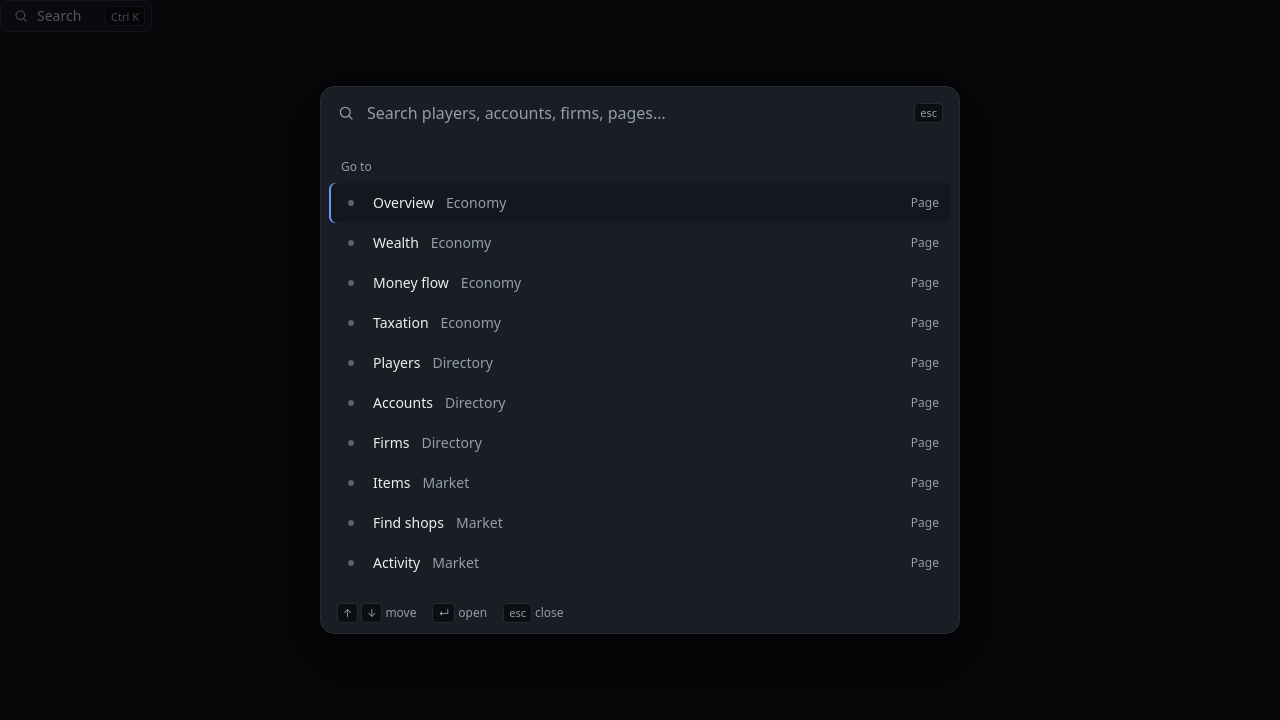
Test case: pages and actions › filters pages by the query and opens the chosen one with Enter
The width and height of the screenshot is (1280, 720).
Step 1. Type "statem" into the dropdown → (635, 113), box [367,87,902,138]
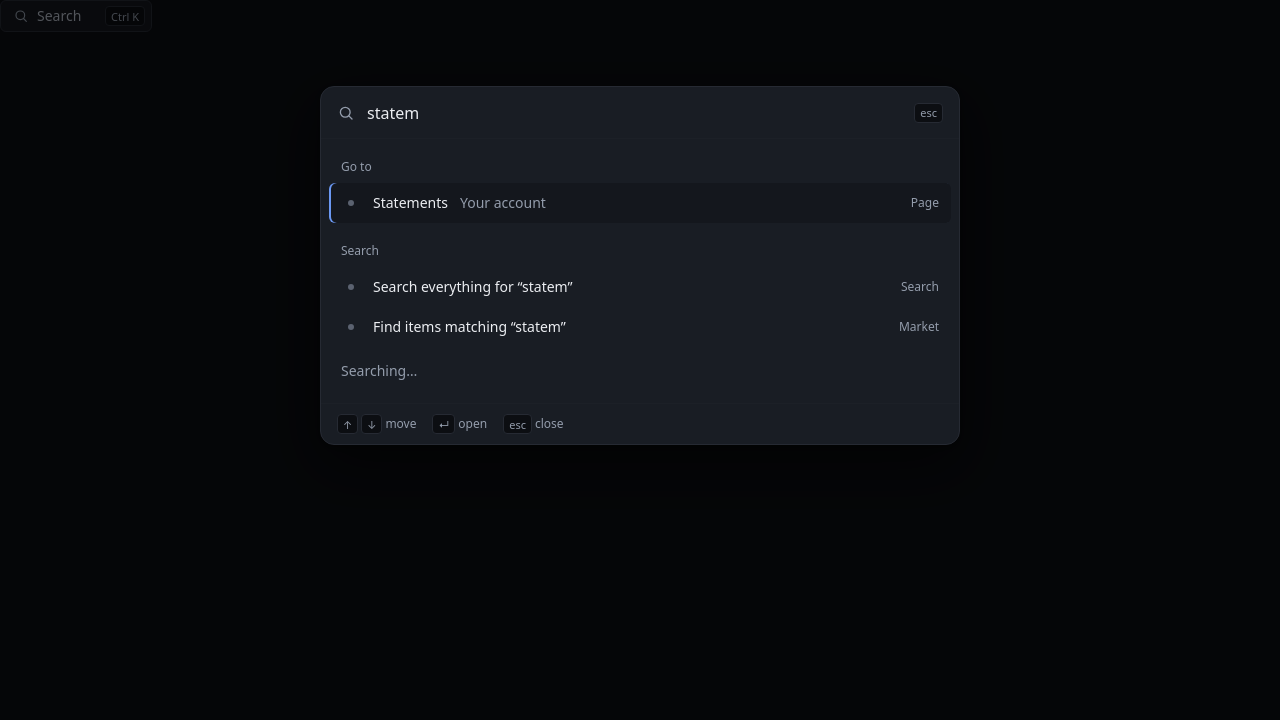
Result: the option "Statements Your account Page" is shown at [329,183,951,223]
Step 2. Press Enter in the dropdown, box [367,87,902,138]
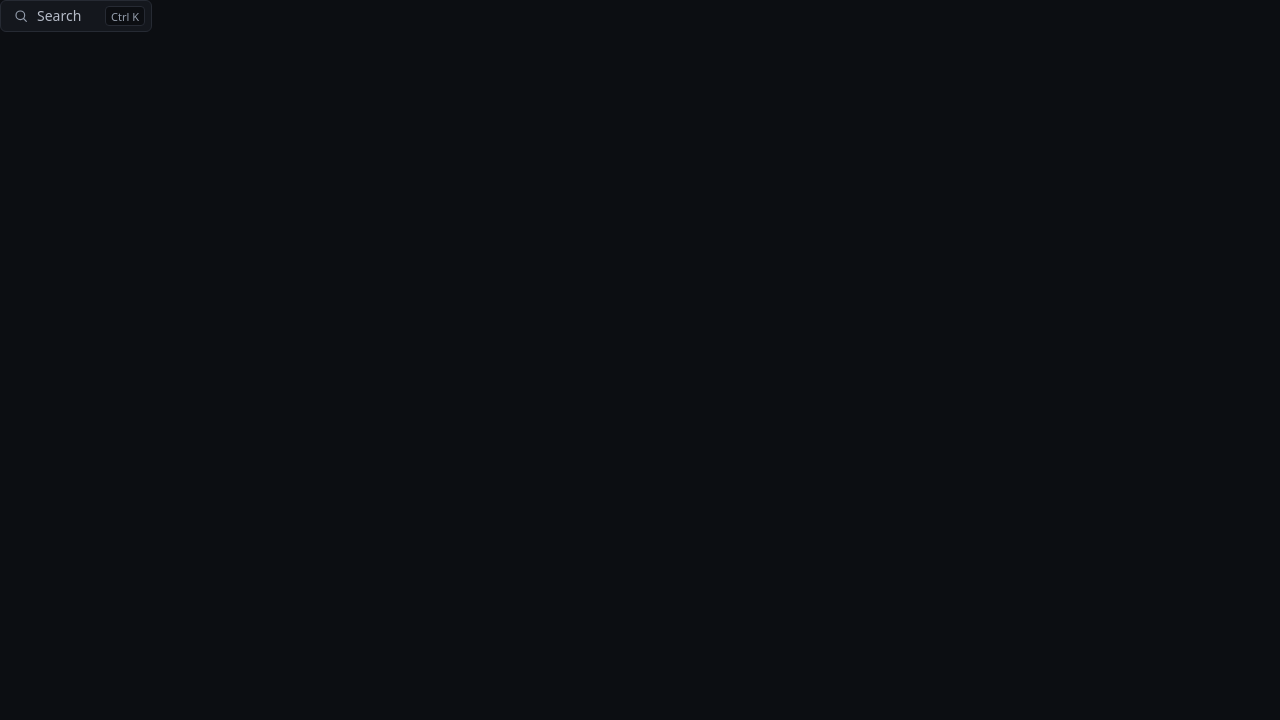
Result: the dropdown is gone
